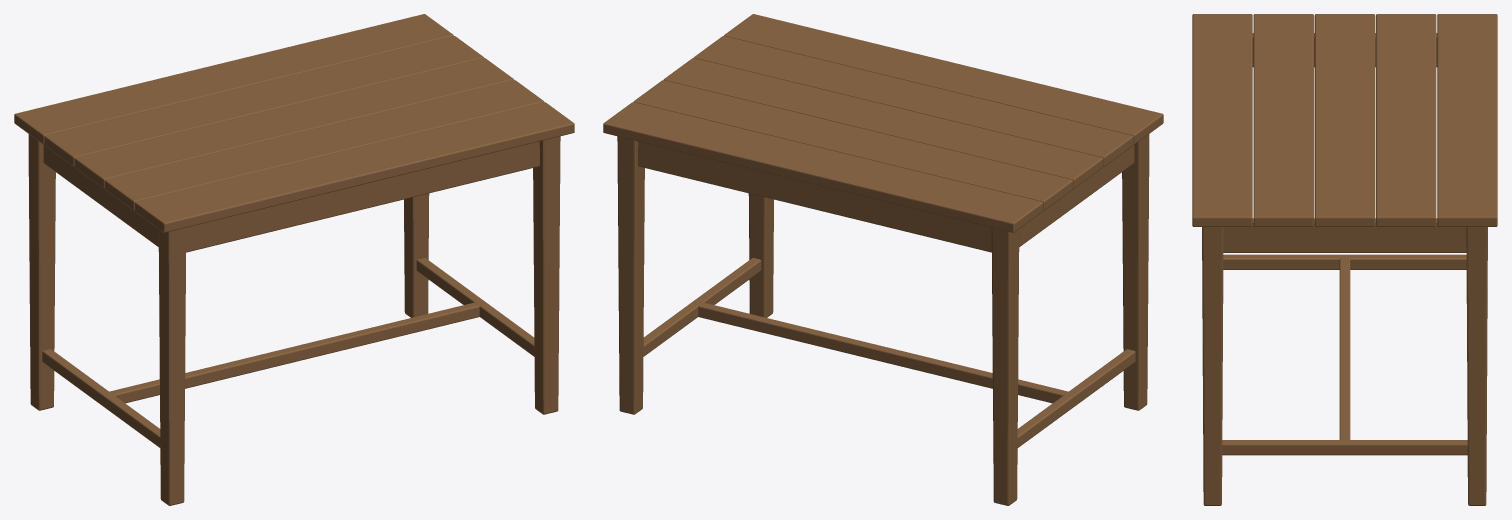
Rendered from BanAn.glb.
3 views of the same model, side by side, from view 1: azimuth 30°, elevation 25°; view 2: azimuth 150°, elevation 25°; view 3: azimuth 270°, elevation 25° (orthographic).
Visible parts, largest first — view 1: geometry_0; view 2: geometry_0; view 3: geometry_0.
Boxes of the visible parts, left/top/right/bottom form: geometry_0: left=14, top=14, right=574, bottom=505; geometry_0: left=603, top=14, right=1163, bottom=505; geometry_0: left=1192, top=14, right=1497, bottom=505.
Bounding box in the file's own units: 1.11 × 0.75 × 0.704.
